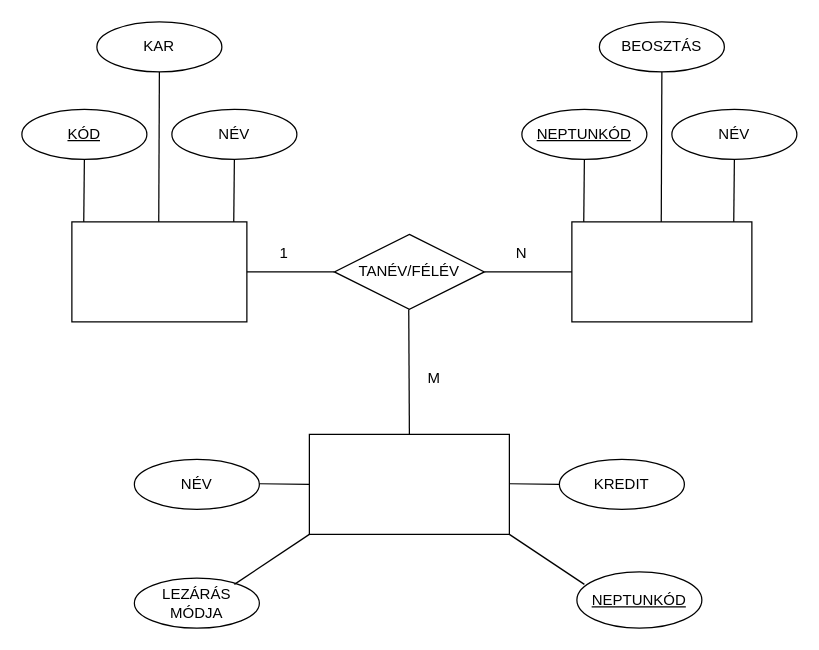
The diagram is 819 pixels wide and 650 high, and some of its shapes have lost their labels. Here are the shapes that lost their labels. From the top down, the centre of each, then its label:
At pixel 159 271: "TANSZÉK".
At pixel 661 271: "OKTATÓ".
At pixel 408 483: "TÁRGY".
